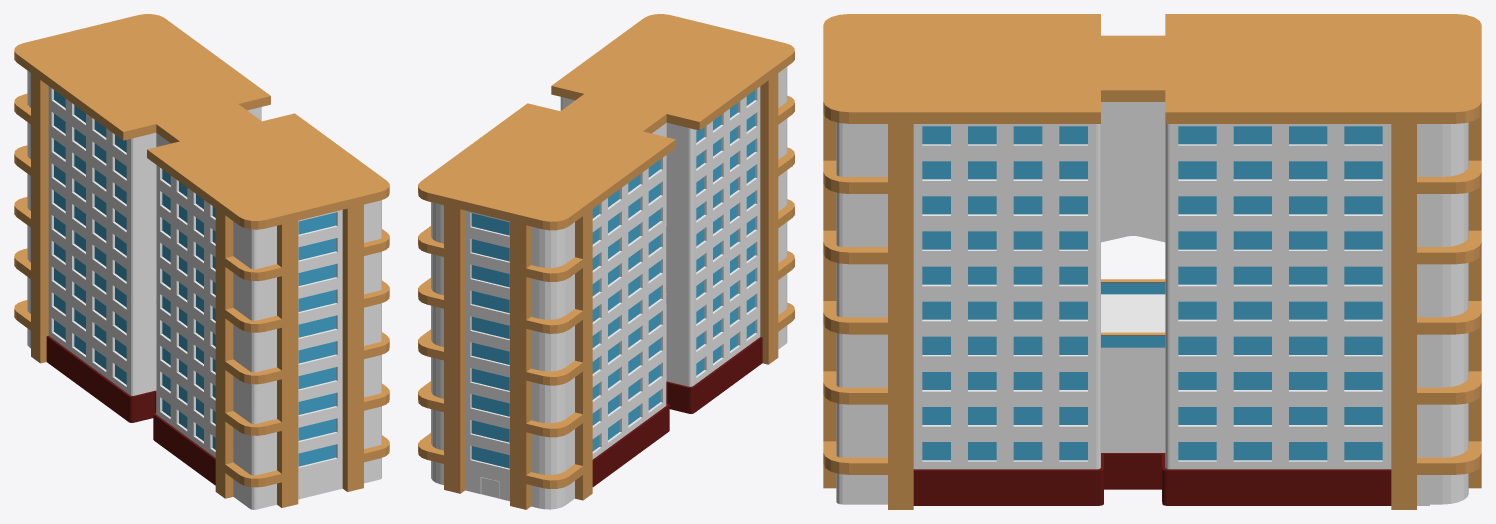
File: building3.fbx
The picture shows the model from 3 angles, left to right: view 1: azimuth 30°, elevation 25°; view 2: azimuth 150°, elevation 25°; view 3: azimuth 270°, elevation 25°; orthographic projection. The views are drawn at different scales.
Parts seen in each view (by area): view 1: Cube, Cube.001; view 2: Cube, Cube.001; view 3: Cube, Cube.001.
Boxes of the visible parts, x1=… form: Cube: x1=27, y1=70, x2=381, y2=509; Cube.001: x1=14, y1=14, x2=389, y2=507; Cube: x1=431, y1=67, x2=787, y2=509; Cube.001: x1=418, y1=14, x2=794, y2=509; Cube: x1=836, y1=102, x2=1468, y2=505; Cube.001: x1=823, y1=14, x2=1481, y2=509.
Size of the model in its own units: 1800 by 3400 by 5100.
